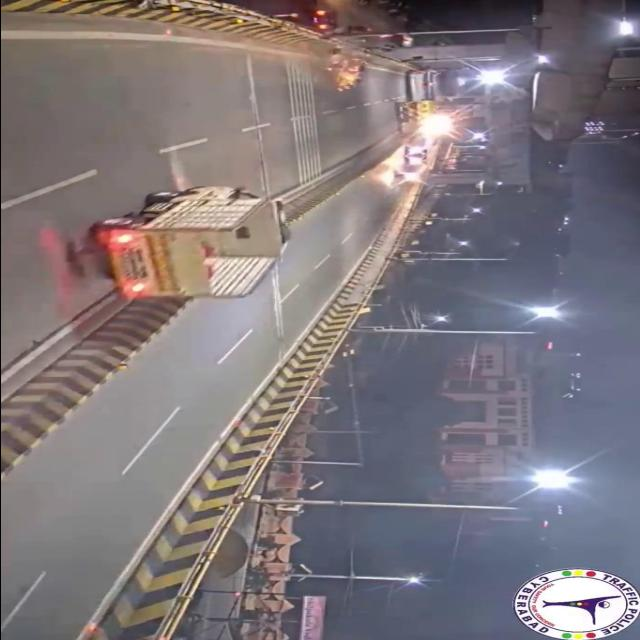accident: (320, 46, 372, 94)
